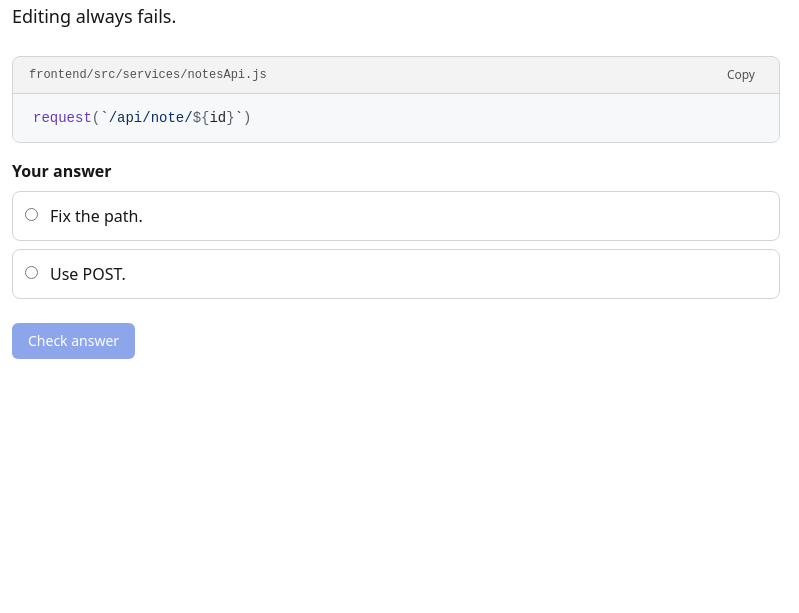
Test: ChoiceInput for fix › shows the broken code with its file and the fixes to choose from
This screenshot has width=799, height=613.
Expected: the text "frontend/src/services/notesApi.js" is shown, [29,67,267,83]
Expected: the element showing "request(`/api/note/${id}`)" is shown, [33,110,252,126]
What coordinates should you click on to do the following:
click the radio button labelled "Fix the path."
I would click on:
 (32, 214)
Its box is [25,208,38,221].
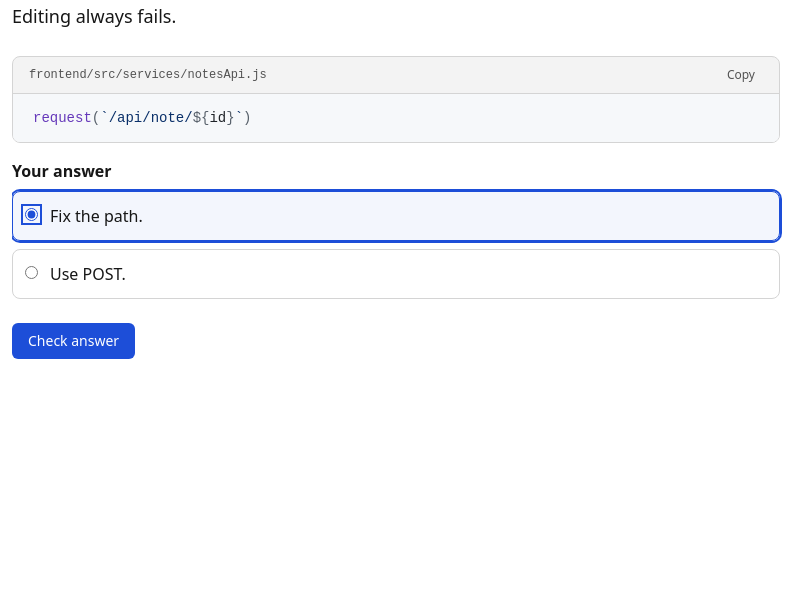
What coordinates should you click on to do the following:
click the button "Check answer"
I would click on:
 (74, 341)
Its box is [12,323,135,359].
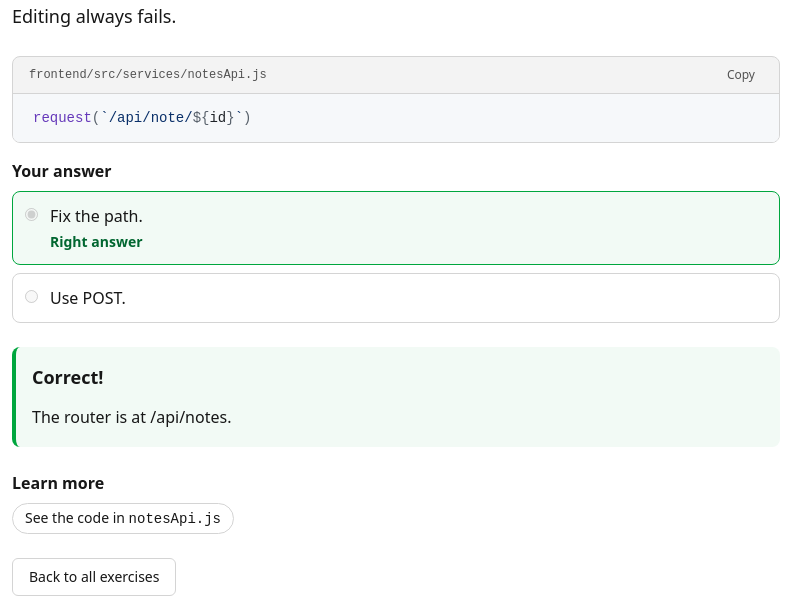
Expected: the heading "Correct!" is shown, [32,365,104,389]
